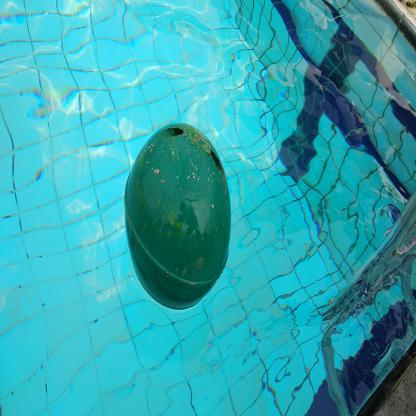green_buoy: (116, 120, 233, 316)
